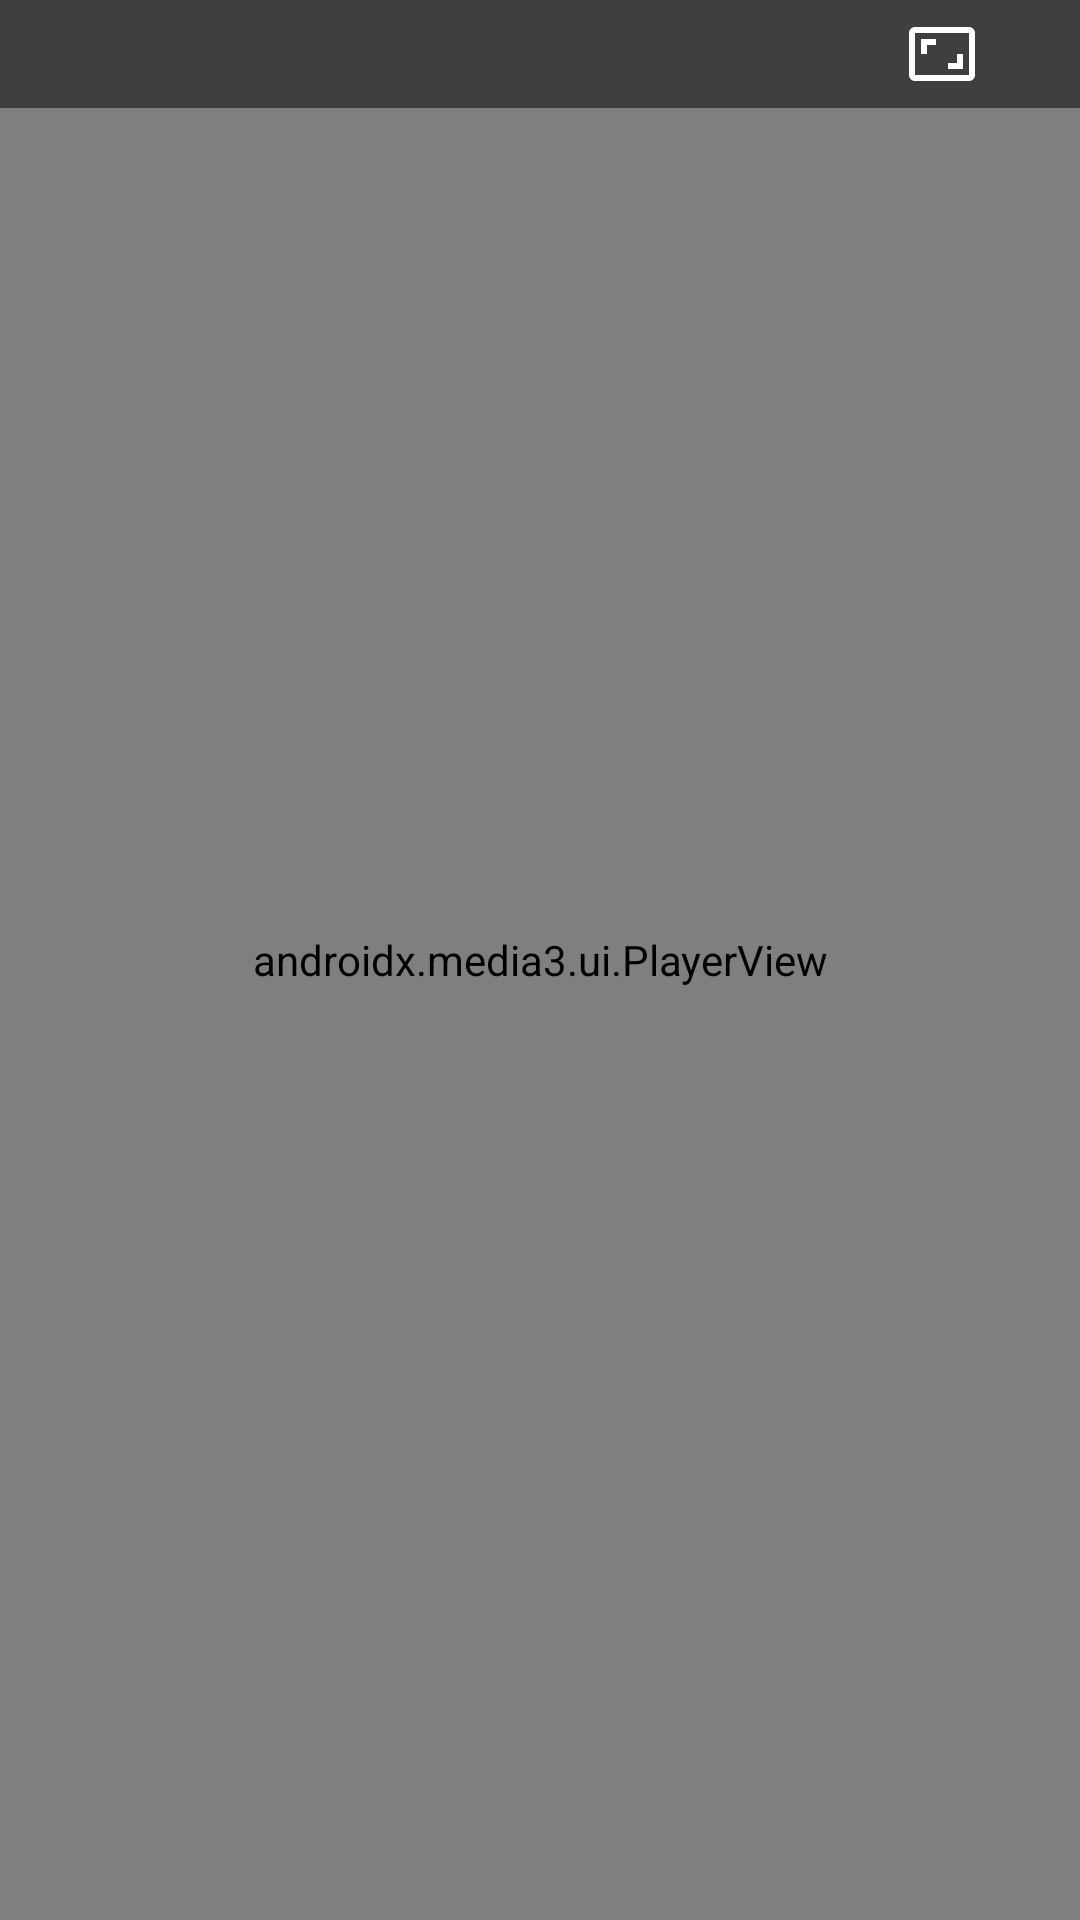

Screen size 1080px x 1920px. Icon name, then its center in pixels as (x=x, y=y):
Maximize: (x=942, y=54)
